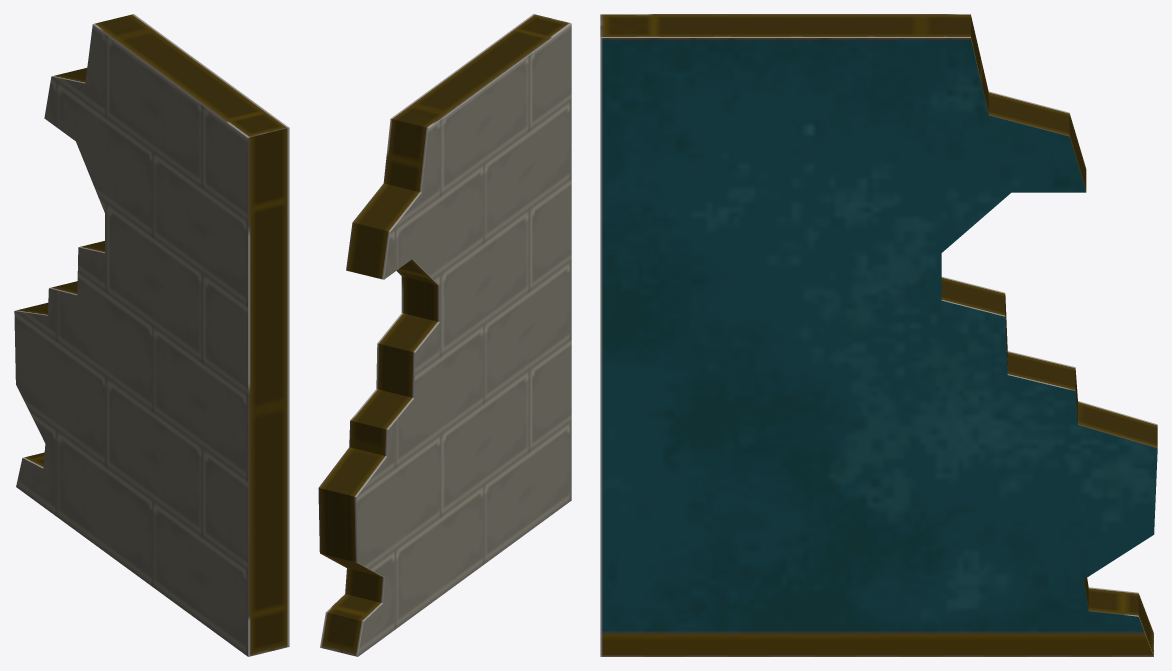
The model's file is Wall_Broken_R_09.fbx.
The picture shows the model from 3 angles, left to right: view 1: azimuth 30°, elevation 25°; view 2: azimuth 150°, elevation 25°; view 3: azimuth 270°, elevation 25°; orthographic projection. The views are drawn at different scales.
Parts seen in each view (by area): view 1: Wall_Broken_R_09; view 2: Wall_Broken_R_09; view 3: Wall_Broken_R_09.
Boxes of the visible parts, <box> form: Wall_Broken_R_09: <box>14,14,289,656</box>; Wall_Broken_R_09: <box>318,14,571,656</box>; Wall_Broken_R_09: <box>600,14,1157,656</box>.
Bounding box in the file's own units: 50 × 600 × 490.
